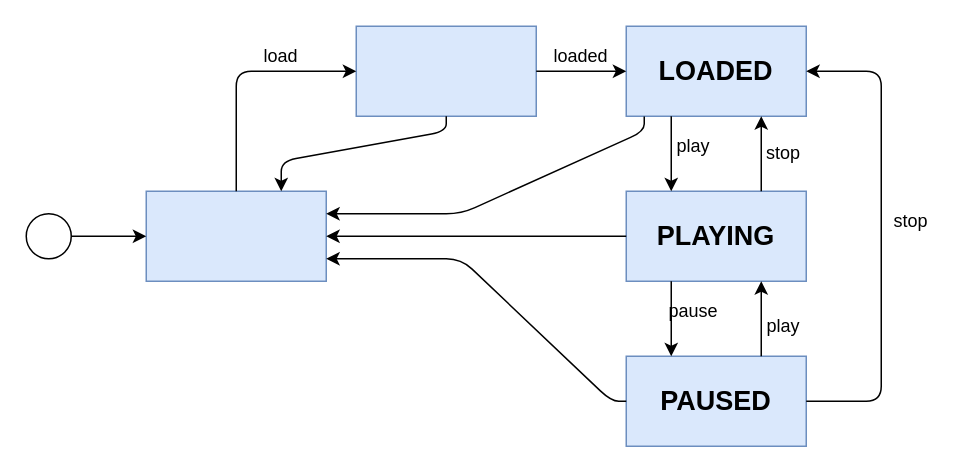
This 968x473 diagram has some shape labels left out. Each missing label, with the centre of its shape:
"IDLE" goes at (x=235, y=235).
"LOADING" goes at (x=445, y=70).
